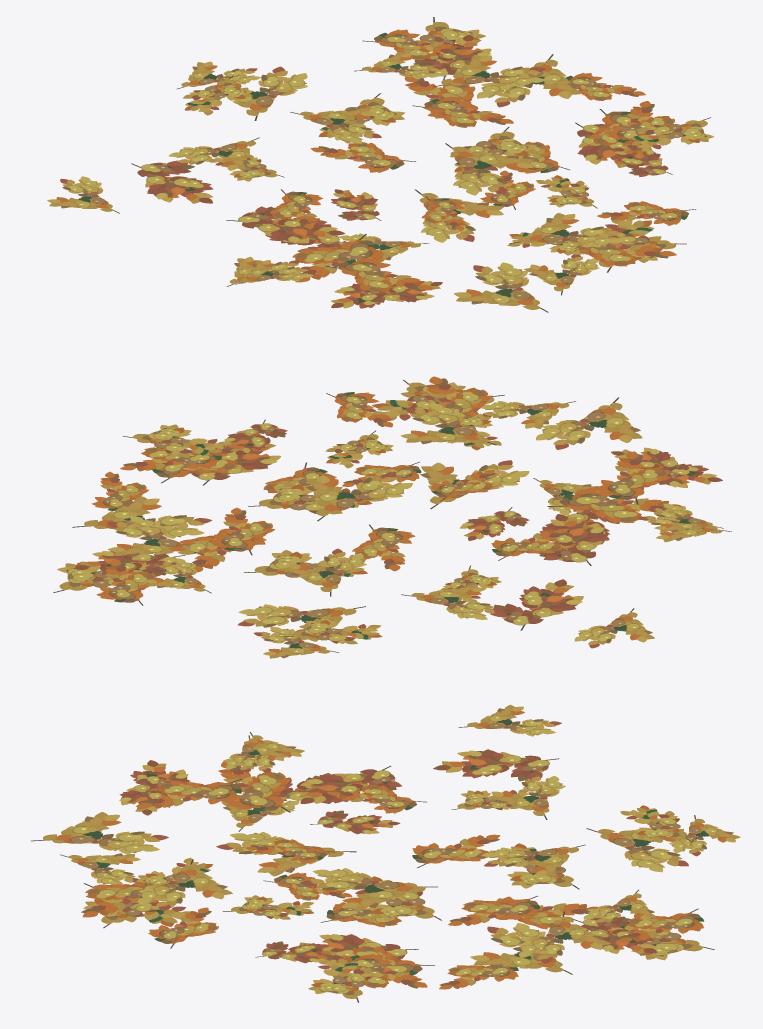
The model's file is poirier_jeune_a.fbx.
The picture shows the model from 3 angles, top to bottom: view 1: azimuth 30°, elevation 25°; view 2: azimuth 150°, elevation 25°; view 3: azimuth 270°, elevation 25°; orthographic projection. The views are drawn at different scales.
Visible parts, largest first — view 1: poirier_jeune_a_feuilles_sol; view 2: poirier_jeune_a_feuilles_sol; view 3: poirier_jeune_a_feuilles_sol.
Part boxes in pixels (<box>): poirier_jeune_a_feuilles_sol: <box>47,17,714,312</box>; poirier_jeune_a_feuilles_sol: <box>53,376,731,658</box>; poirier_jeune_a_feuilles_sol: <box>31,704,740,1002</box>.
Size of what is drawn, in the model's own units: 2.22 by 0.00598 by 2.19.
